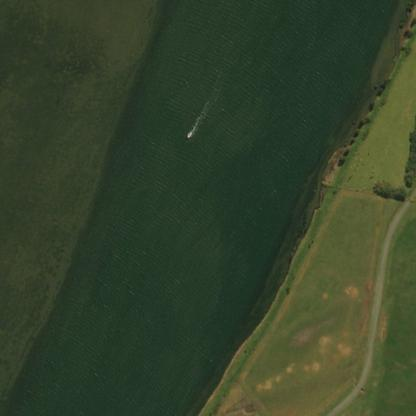ship: (18, 130, 24, 137)
